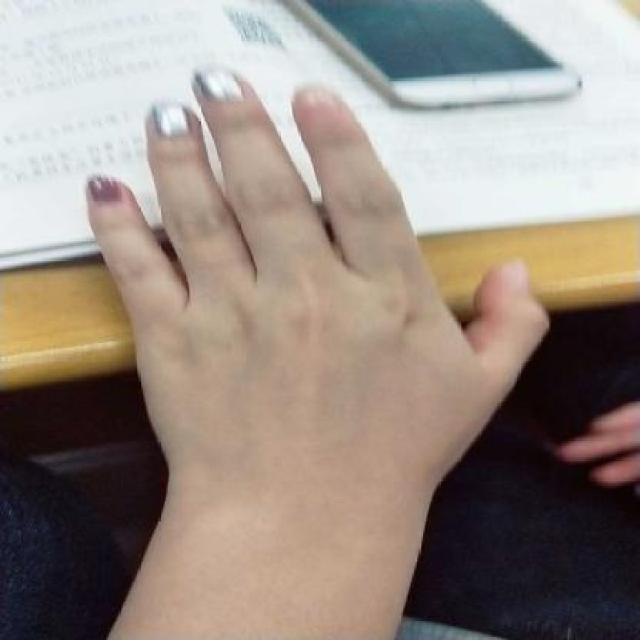hand_noglove: (89, 70, 548, 504)
